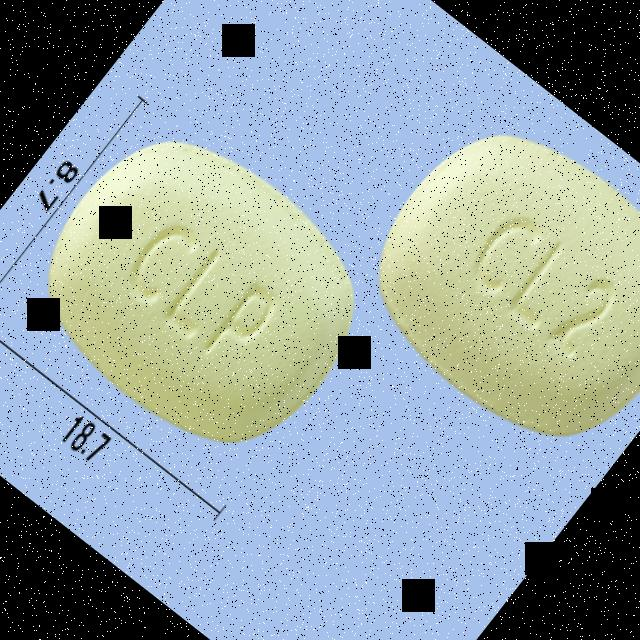Celltrion Clarithromycin: (0, 94, 402, 490), (328, 88, 640, 486)
